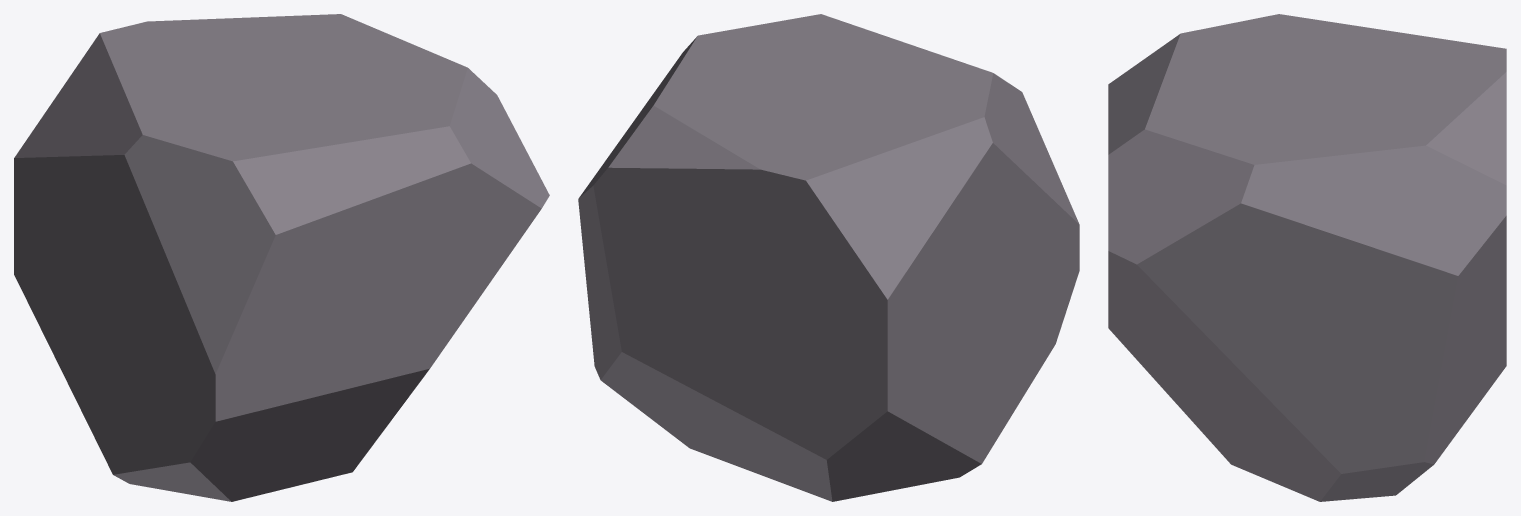
File: stone_light_gray_1.fbx
3 views of the same model, side by side, from view 1: azimuth 30°, elevation 25°; view 2: azimuth 150°, elevation 25°; view 3: azimuth 270°, elevation 25° (orthographic). The views are drawn at different scales.
Visible parts, largest first — view 1: Cube.004; view 2: Cube.004; view 3: Cube.004.
Part boxes in pixels (x1=…): Cube.004: x1=14, y1=14, x2=549, y2=501; Cube.004: x1=578, y1=14, x2=1079, y2=501; Cube.004: x1=1108, y1=14, x2=1506, y2=501.
Bounding box in the file's own units: 108 × 108 × 108.
